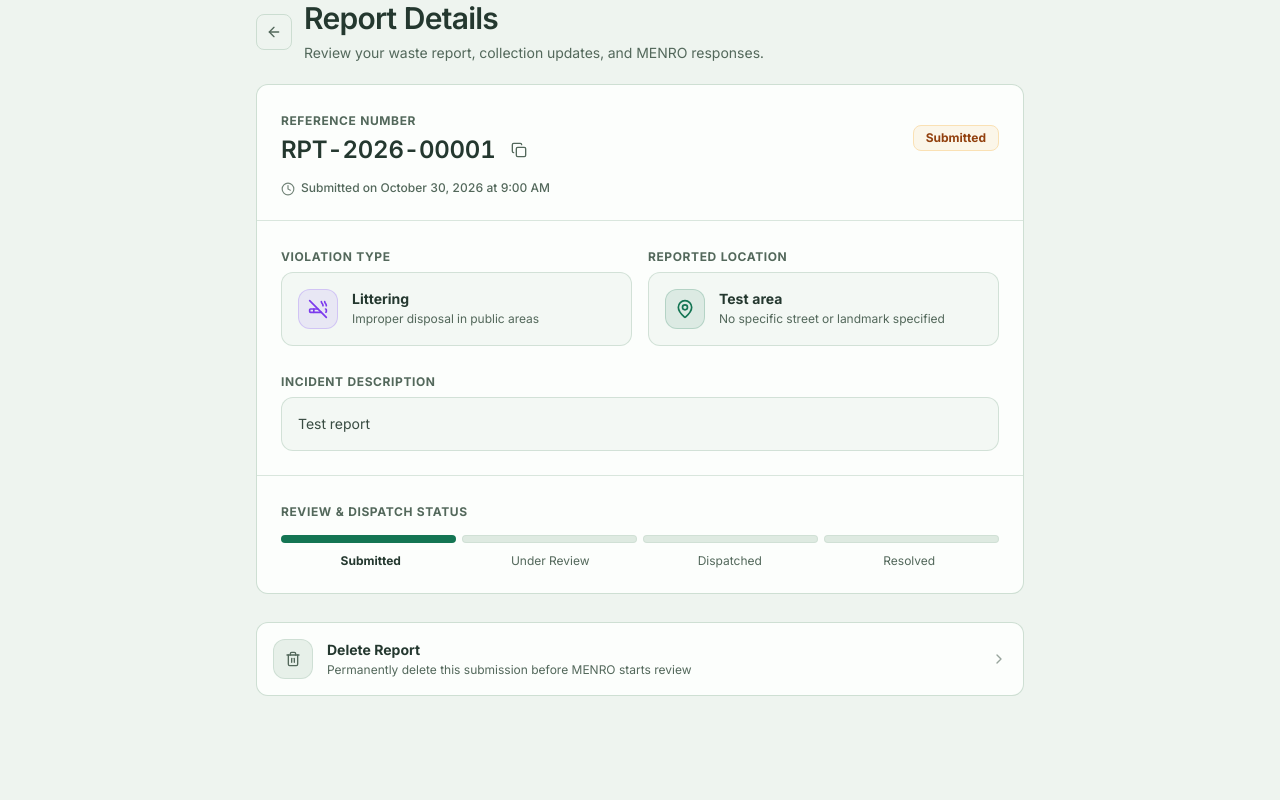
Test: requires confirmation before permanently deleting an untouched submission
The image size is (1280, 800).
Later steps or results of the test are not shown.
What coordinates should you click on to do the following:
click the button "Delete Report"
I would click on:
 (640, 659)
Its box is [256,622,1024,696].
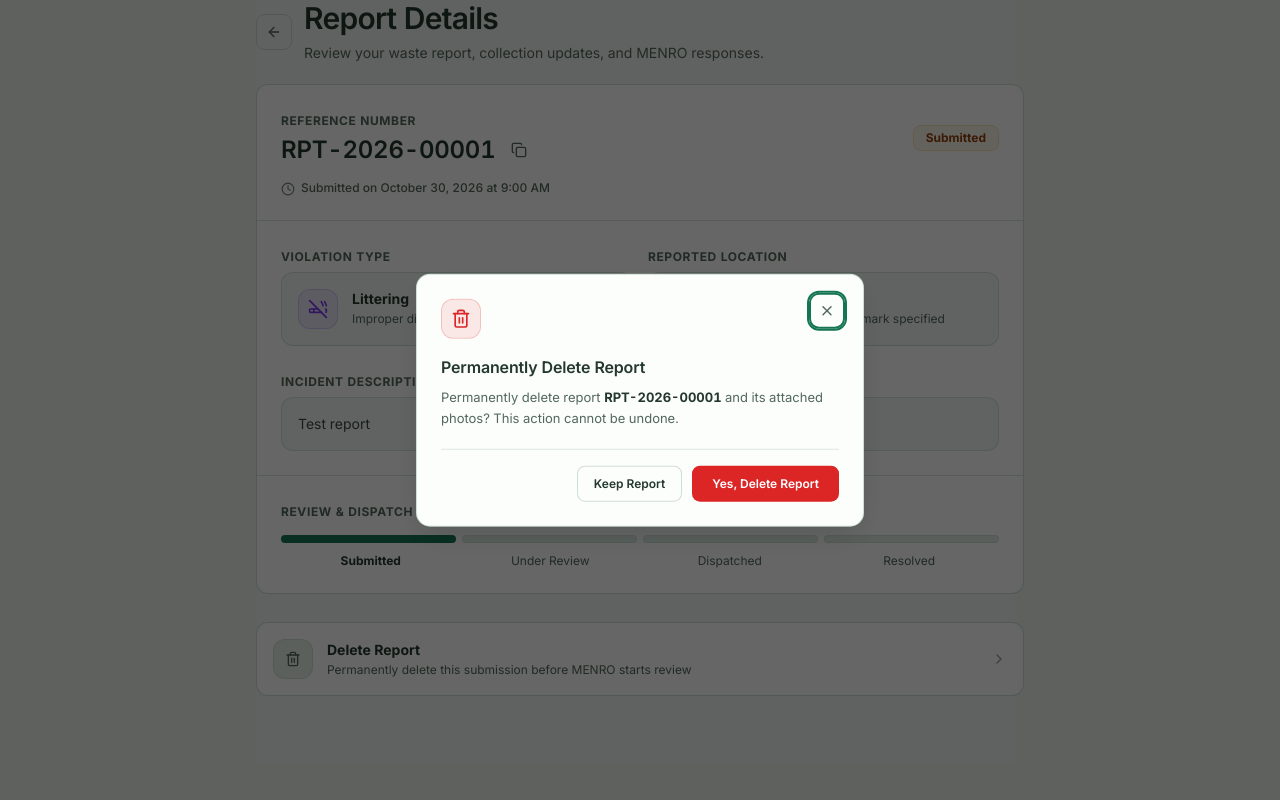
Now the dialog shows "Permanently Delete", box [441,357,645,377]
